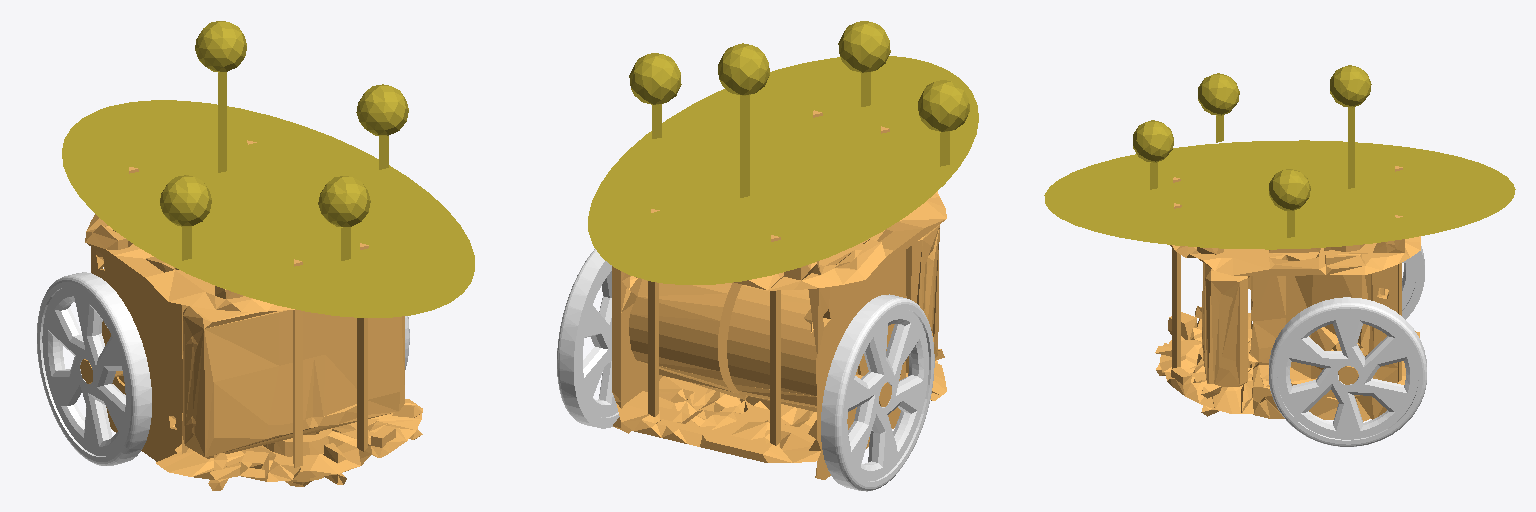
robot.urdf — swmrob_v26:
<?xml version="1.0" encoding="utf-8"?>
<!-- This URDF was automatically created by SolidWorks to URDF Exporter! Originally created by [author] ([email redacted]) 
     Commit Version: 1.6.0-4-g7f85cfe  Build Version: 1.6.7995.38578
     For more information, please see http://wiki.ros.org/sw_urdf_exporter -->
<robot
  name="swmrob_v26">
  <link
    name="base_link">
    <inertial>
      <origin
        xyz="-0.00048529 0.00026068 0.017921"
        rpy="0 0 0" />
      <mass
        value="0.057426" />
      <inertia
        ixx="8.0665E-06"
        ixy="-4.7558E-08"
        ixz="-1.5248E-08"
        iyy="8.5295E-06"
        iyz="2.1229E-07"
        izz="1.0079E-05" />
    </inertial>
    <visual>
      <origin
        xyz="0 0 0"
        rpy="0 0 0" />
      <geometry>
        <mesh
          filename="package://swmrob_v26/meshes/base_link.STL" />
      </geometry>
      <material
        name="">
        <color
          rgba="1 0.76471 0.43529 1" />
      </material>
    </visual>
    <collision>
      <origin
        xyz="0 0 0"
        rpy="0 0 0" />
      <geometry>
        <mesh
          filename="package://swmrob_v26/meshes/base_link.STL" />
      </geometry>
    </collision>
  </link>
  <link
    name="headplate">
    <inertial>
      <origin
        xyz="-0.00011801 -0.0010291 0.0017348"
        rpy="0 0 0" />
      <mass
        value="0.012565" />
      <inertia
        ixx="7.8741E-06"
        ixy="7.508E-10"
        ixz="1.3285E-13"
        iyy="2.3568E-06"
        iyz="1.796E-17"
        izz="1.0202E-05" />
    </inertial>
    <visual>
      <origin
        xyz="0 0 0"
        rpy="0 0 0" />
      <geometry>
        <mesh
          filename="package://swmrob_v26/meshes/headplate.STL" />
      </geometry>
      <material
        name="Yellow">
        <color
          rgba="0.7843 0.7098 0.2471 1" />
      </material>
    </visual>
    <collision>
      <origin
        xyz="0 0 0"
        rpy="0 0 0" />
      <geometry>
        <mesh
          filename="package://swmrob_v26/meshes/headplate.STL" />
      </geometry>
    </collision>
  </link>
  <joint
    name="headplate"
    type="fixed">
    <origin
      xyz="0.00050422 -0.0026819 0.045605"
      rpy="0 0 0.054447" />
    <parent
      link="base_link" />
    <child
      link="headplate" />
    <axis
      xyz="0 0 0" />
  </joint>
  <link
    name="Left wheel">
    <inertial>
      <origin
        xyz="-0.0015204 1.3789E-13 -5.7954E-14"
        rpy="0 0 0" />
      <mass
        value="0.0025911" />
      <inertia
        ixx="5.2509E-07"
        ixy="-1.2119E-19"
        ixz="4.6405E-21"
        iyy="2.6486E-07"
        iyz="4.2466E-20"
        izz="2.6486E-07" />
    </inertial>
    <visual>
      <origin
        xyz="0 0 0"
        rpy="0 0 0" />
      <geometry>
        <mesh
          filename="package://swmrob_v26/meshes/Left wheel.STL" />
      </geometry>
      <material
        name="">
        <color
          rgba="1 1 1 1" />
      </material>
    </visual>
    <collision>
      <origin
        xyz="0 0 0"
        rpy="0 0 0" />
      <geometry>
        <mesh
          filename="package://swmrob_v26/meshes/Left wheel.STL" />
      </geometry>
    </collision>
  </link>
  <joint
    name="Left wheel"
    type="continuous">
    <origin
      xyz="0.029607 0.013227 0.01075"
      rpy="0.010581 0 0.010213" />
    <parent
      link="base_link" />
    <child
      link="Left wheel" />
    <axis
      xyz="1 0 0" />
  </joint>
  <link
    name="Right wheel">
    <inertial>
      <origin
        xyz="0.0015204 5.538E-05 -5.027E-05"
        rpy="0 0 0" />
      <mass
        value="0.0025911" />
      <inertia
        ixx="5.2509E-07"
        ixy="-5.5335E-20"
        ixz="-9.8203E-21"
        iyy="2.6486E-07"
        iyz="6.3344E-20"
        izz="2.6486E-07" />
    </inertial>
    <visual>
      <origin
        xyz="0 0 0"
        rpy="0 0 0" />
      <geometry>
        <mesh
          filename="package://swmrob_v26/meshes/Right wheel.STL" />
      </geometry>
      <material
        name="">
        <color
          rgba="1 1 1 1" />
      </material>
    </visual>
    <collision>
      <origin
        xyz="0 0 0"
        rpy="0 0 0" />
      <geometry>
        <mesh
          filename="package://swmrob_v26/meshes/Right wheel.STL" />
      </geometry>
    </collision>
  </link>
  <joint
    name="Right wheel"
    type="continuous">
    <origin
      xyz="-0.03039 0.012614 0.01075"
      rpy="0.0021341 0 0.010213" />
    <parent
      link="base_link" />
    <child
      link="Right wheel" />
    <axis
      xyz="1 0 0" />
  </joint>
</robot>

--- Facts derived from the render (not from the file) ---
Views: 3 orthographic renders of the robot side by side, from view 1: azimuth 30°, elevation 25°; view 2: azimuth 150°, elevation 25°; view 3: azimuth 270°, elevation 25°.
Model swmrob_v26 with 4 links and 3 joints (2 continuous, 1 fixed), rooted at base_link, posed all joints at 0.
Visible links, largest first — view 1: headplate, base_link, Right wheel; view 2: headplate, base_link, Right wheel, Left wheel; view 3: headplate, base_link, Left wheel, Right wheel.
Boxes of the visible links, left/top/right/bottom form: headplate: left=62, top=21, right=474, bottom=317; base_link: left=80, top=140, right=422, bottom=490; Right wheel: left=37, top=272, right=151, bottom=465; headplate: left=588, top=21, right=978, bottom=284; base_link: left=612, top=110, right=946, bottom=479; Right wheel: left=821, top=294, right=934, bottom=491; Left wheel: left=557, top=249, right=619, bottom=428; headplate: left=1044, top=65, right=1515, bottom=249; base_link: left=1155, top=166, right=1420, bottom=421; Left wheel: left=1269, top=297, right=1426, bottom=446; Right wheel: left=1402, top=246, right=1424, bottom=319.
Bounding box of the posed robot: 0.0627 × 0.1097 × 0.085 m (x, y, z).
4 mesh visuals loaded from 4 distinct referenced files (4 binary STL).
